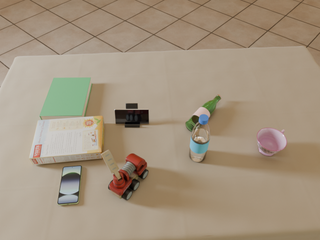book: (40, 78, 92, 120)
bottle: (186, 95, 221, 132), (189, 114, 210, 162)
box: (29, 116, 104, 165)
cup: (257, 128, 287, 156)
phone: (58, 166, 82, 205), (115, 109, 149, 124)
toy_car: (101, 150, 148, 200)
